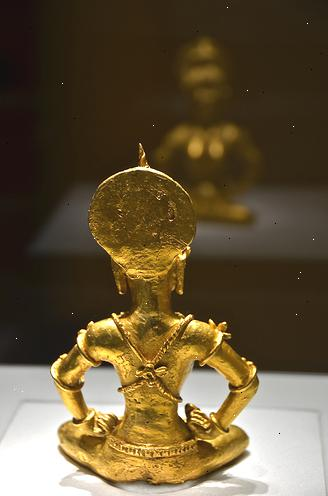golden_tara_of_agusan: (51, 139, 260, 487)
